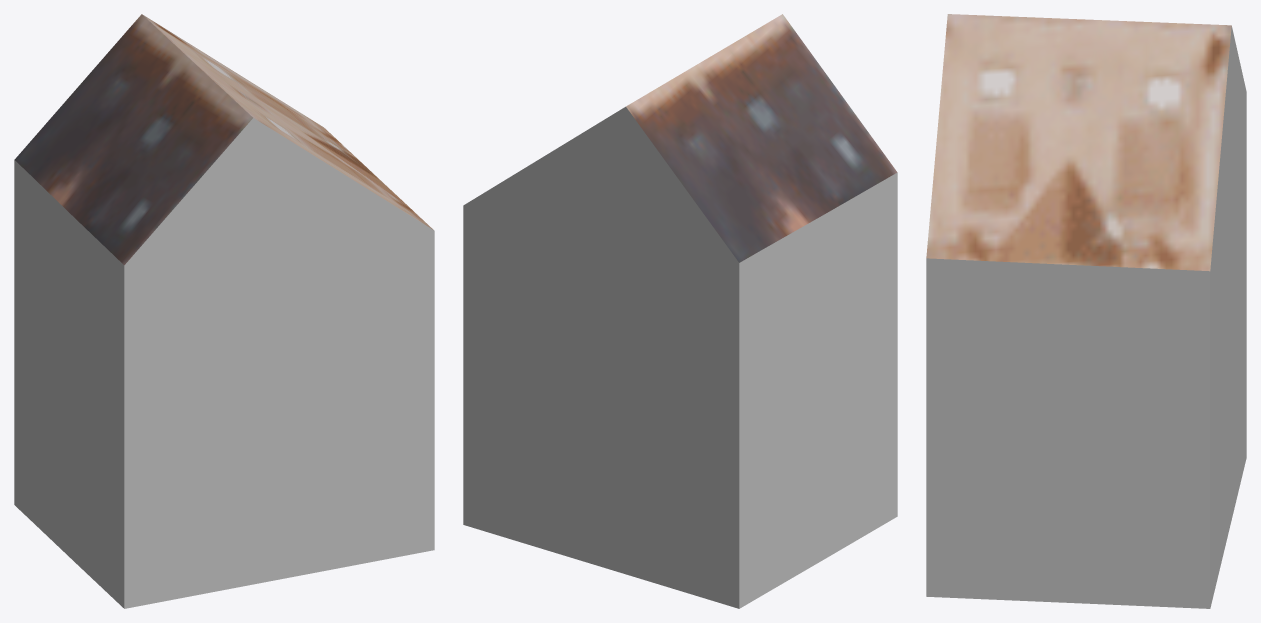
File: DEBW_0010007Txg9.gltf
3 renders of one model, left to right at view 1: azimuth 30°, elevation 25°; view 2: azimuth 150°, elevation 25°; view 3: azimuth 270°, elevation 25°, orthographic. The views are drawn at different scales.
Visible parts, largest first — view 1: Z_UP; view 2: Z_UP; view 3: Z_UP.
Boxes of the visible parts, x1,y1,x2,y2 form: Z_UP: (14, 14, 434, 608); Z_UP: (463, 14, 897, 608); Z_UP: (926, 14, 1246, 608).
Size of the model in its own units: 14.91 by 21.02 by 12.34.
Materials: 2 (1 with a texture image).
